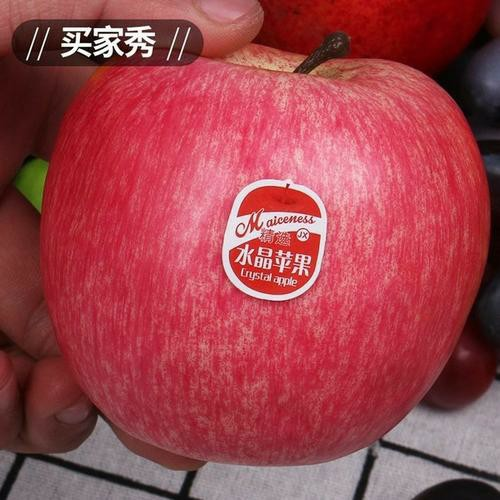fresh_apple: (41, 37, 493, 465)
